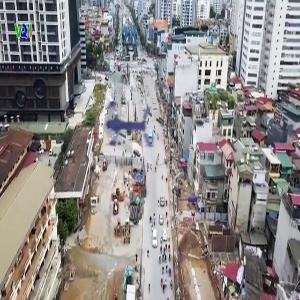drone: (81, 88, 160, 167)
